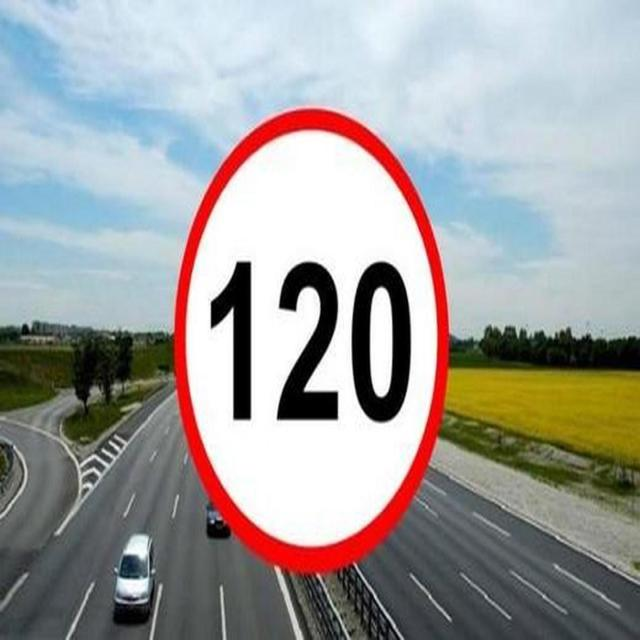speed limit 120: (173, 107, 450, 572)
